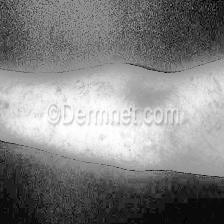Benign Marking or Mole: (162, 128, 222, 174), (127, 85, 176, 108)
